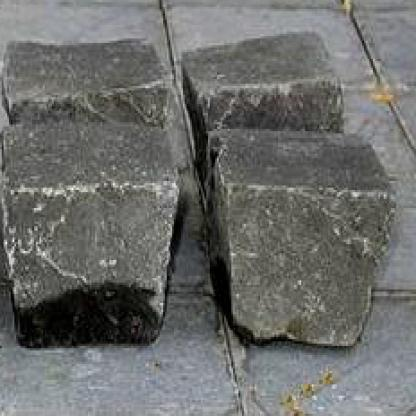Igneous_Basalt: (203, 120, 405, 337), (2, 122, 184, 344)
